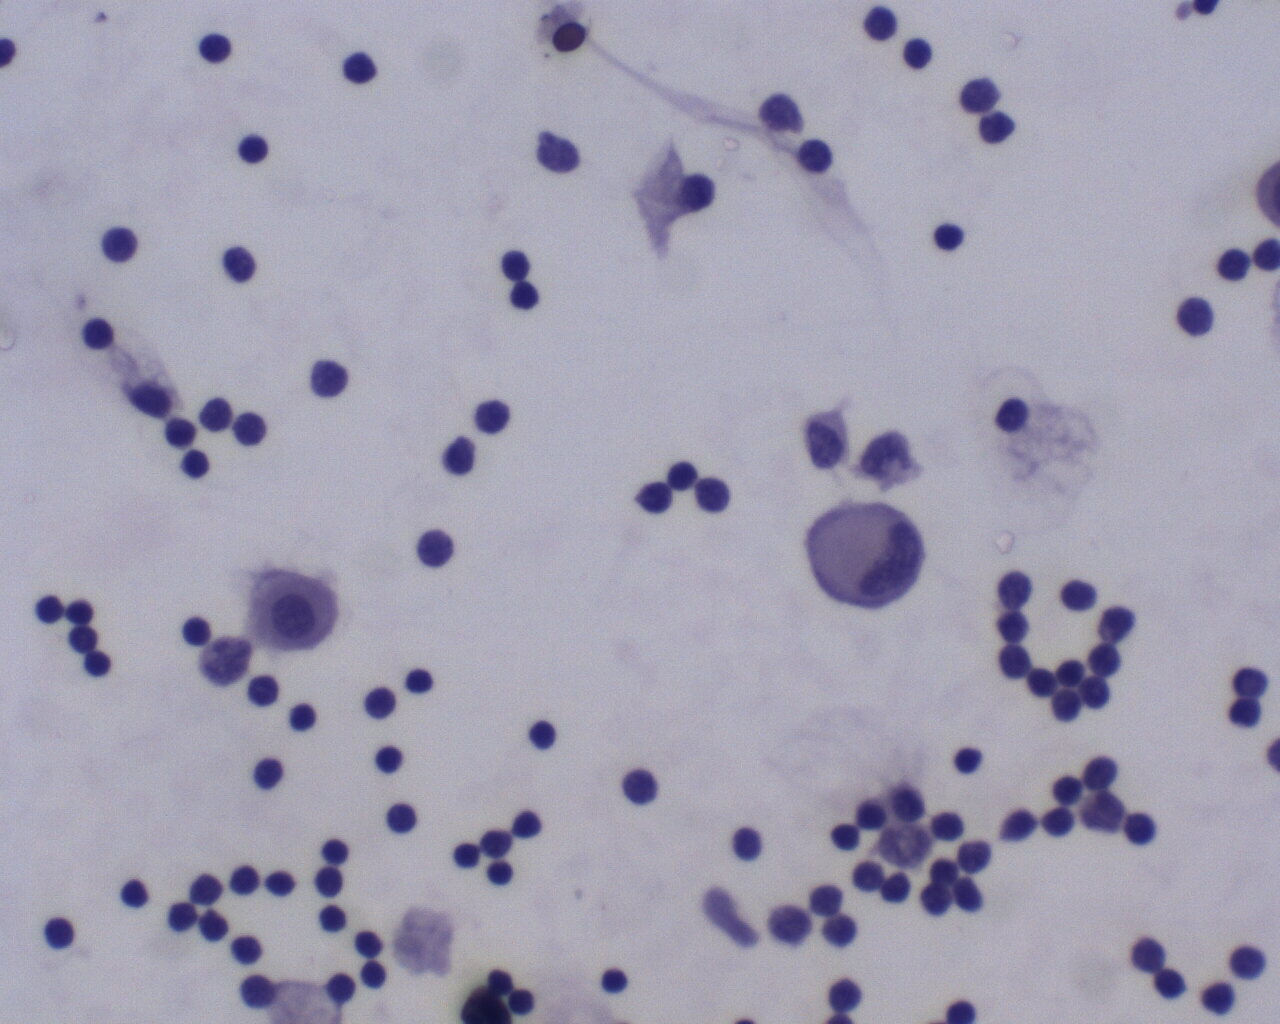histo: (801, 491, 923, 612)
lymph: (98, 219, 148, 269), (411, 523, 460, 571), (37, 912, 84, 960), (1058, 571, 1106, 616), (1172, 295, 1220, 340), (990, 393, 1035, 438), (368, 739, 416, 781), (929, 805, 977, 846), (592, 957, 636, 1002), (220, 239, 261, 287), (76, 312, 124, 353), (381, 798, 424, 843), (616, 766, 662, 808), (309, 355, 351, 401), (1122, 804, 1163, 851), (191, 26, 237, 67), (235, 130, 277, 169), (895, 33, 935, 75), (226, 856, 264, 899), (522, 715, 563, 754), (728, 821, 768, 862), (174, 613, 214, 652), (248, 755, 288, 793), (397, 661, 438, 698), (227, 929, 267, 965), (495, 249, 537, 282), (283, 700, 324, 734), (932, 218, 963, 257)
meso: (247, 562, 342, 653)
